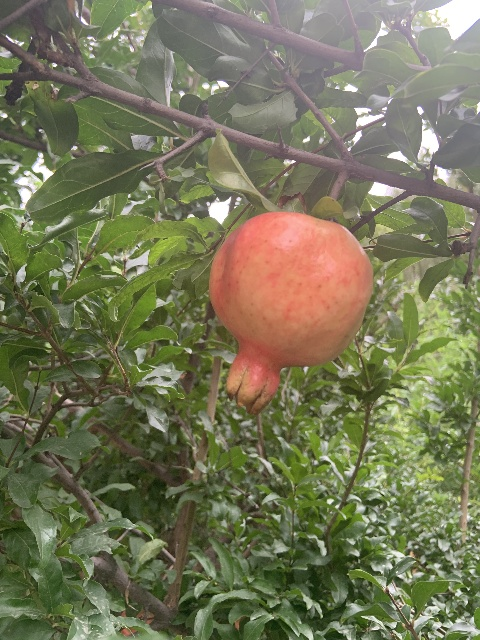ripe: (208, 210, 373, 414)
